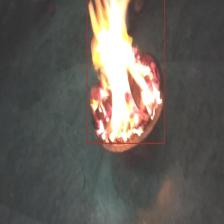fire: (86, 0, 164, 144)
